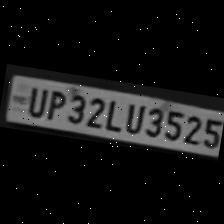2: (82, 90, 106, 128), (178, 109, 204, 144)
3: (62, 88, 86, 124), (142, 102, 165, 138)
5: (160, 105, 186, 140), (198, 113, 224, 148)
L: (102, 94, 124, 132)
P: (42, 86, 66, 120)
U: (119, 97, 146, 134), (22, 82, 48, 118)
